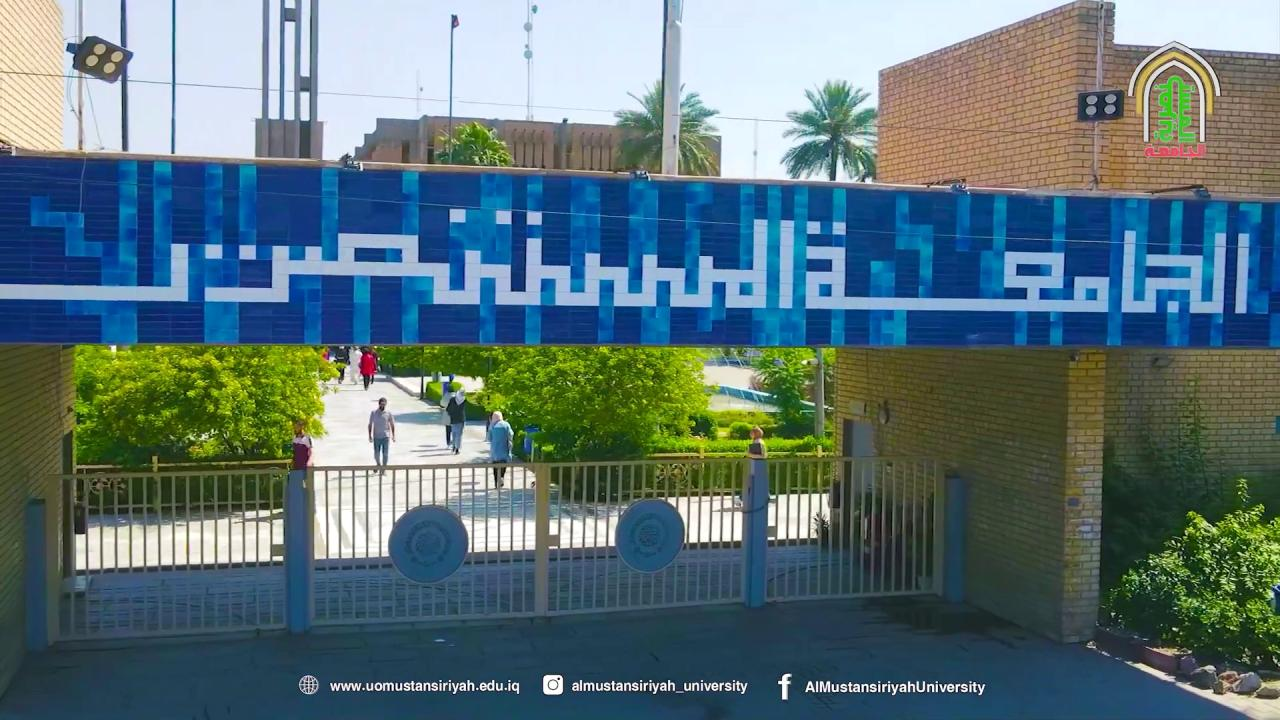fountain: (676, 346, 781, 394), (1141, 642, 1194, 674)
person: (736, 426, 770, 508), (367, 396, 396, 474), (487, 410, 513, 488), (444, 386, 467, 454), (290, 420, 313, 487)
tree: (73, 342, 341, 509), (473, 344, 718, 499), (1100, 475, 1279, 675), (1126, 372, 1236, 517), (612, 78, 720, 175), (779, 78, 878, 182), (748, 346, 836, 439), (373, 343, 491, 401), (432, 119, 514, 166)
